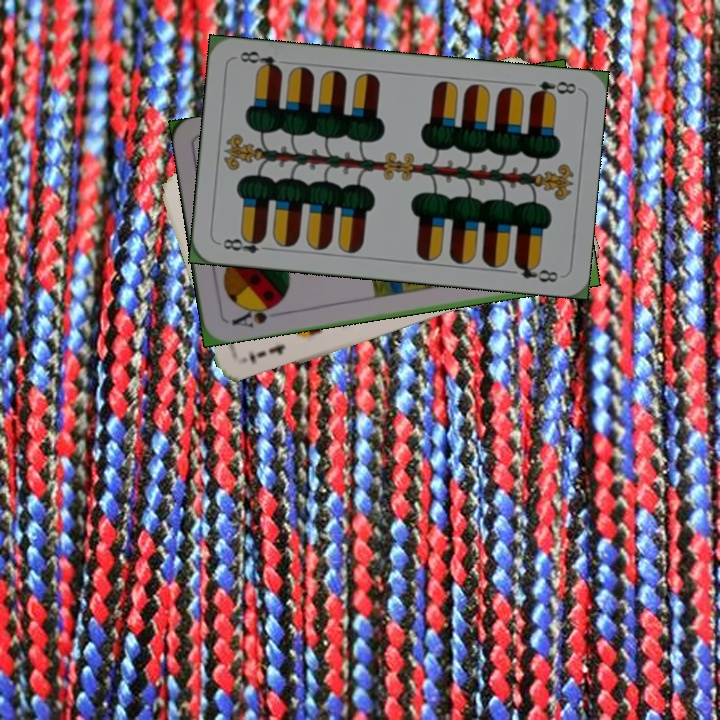E7: (245, 340, 287, 367)
E8: (218, 231, 274, 256), (527, 77, 579, 101)
SA: (227, 299, 282, 330)
